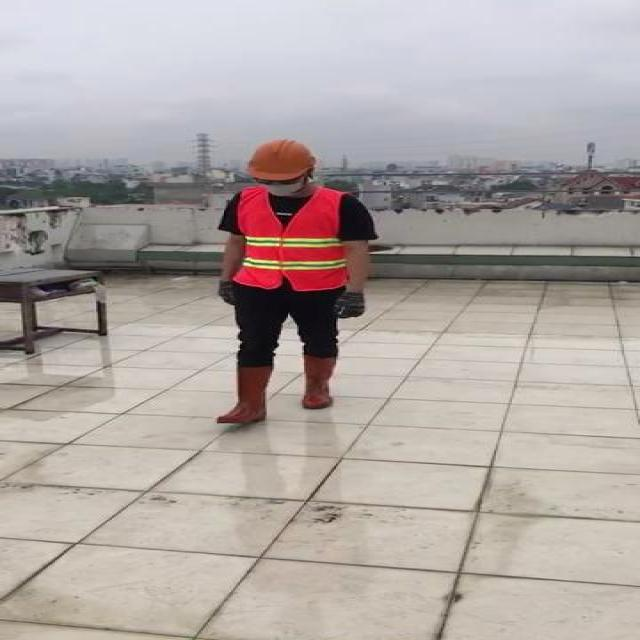boots: (213, 364, 272, 425), (297, 351, 341, 410)
face_mask: (253, 172, 311, 197)
glasses: (252, 174, 304, 188)
hand_glove: (334, 291, 368, 318), (217, 282, 236, 309)
head_helmet: (242, 136, 320, 182)
person: (192, 134, 380, 432)
vest: (233, 188, 352, 288)
